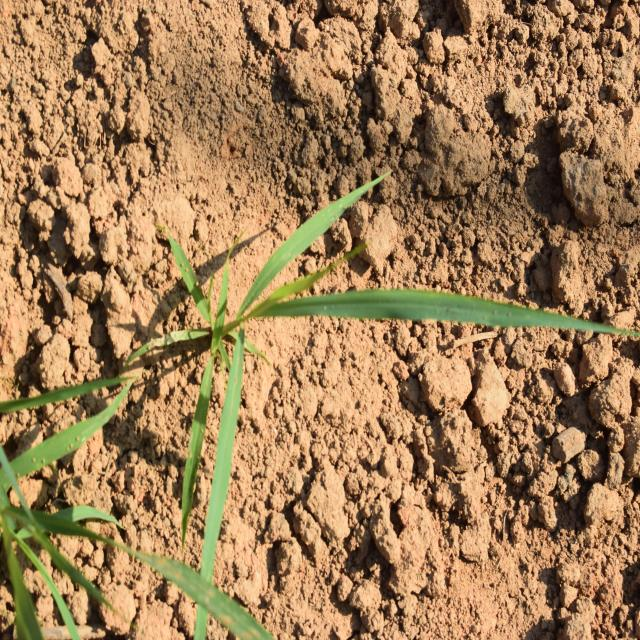green_foxtail: (168, 178, 441, 480)
